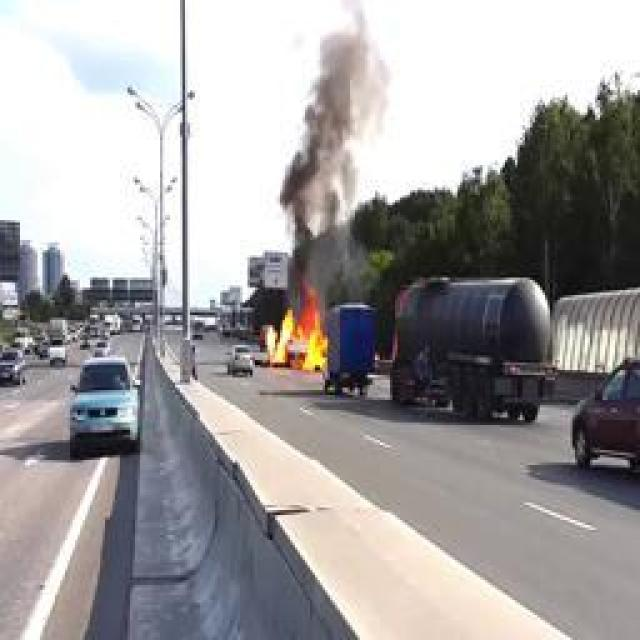Fire: (260, 288, 328, 374)
